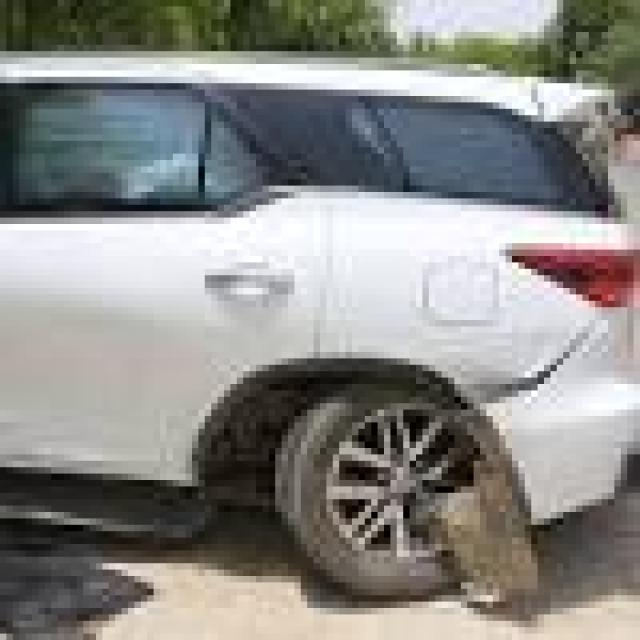moderate: (122, 167, 580, 618)
